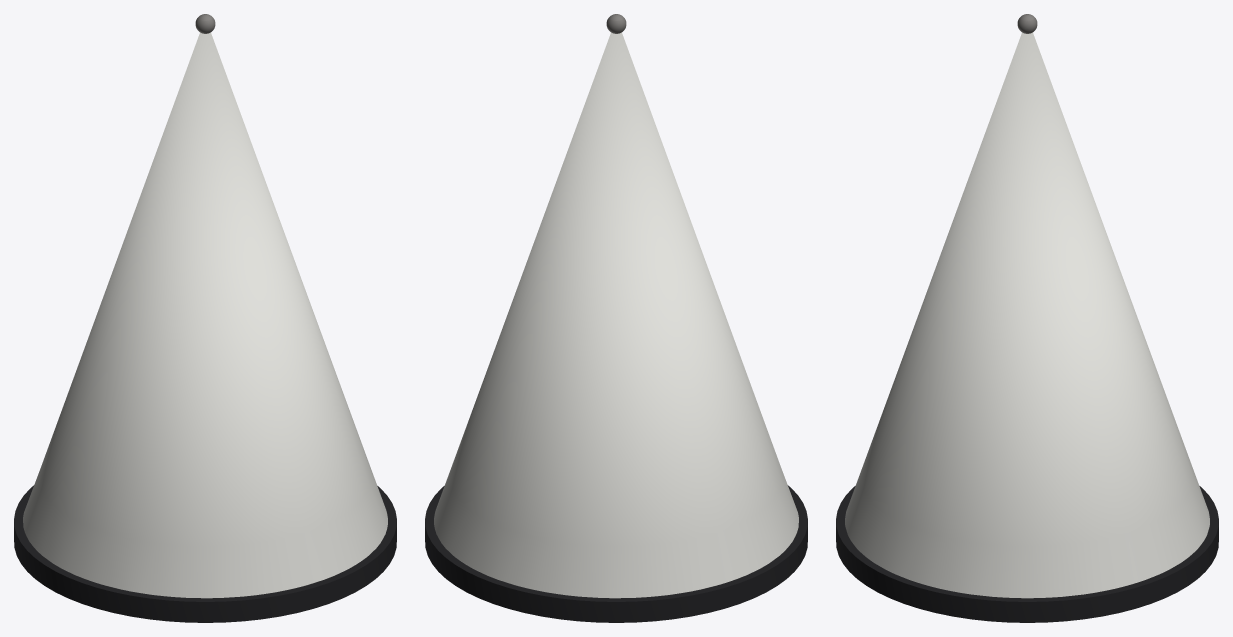
Rendered from stage13_nose_cone_conic_s.glb.
The picture shows the model from 3 angles, left to right: view 1: azimuth 30°, elevation 25°; view 2: azimuth 150°, elevation 25°; view 3: azimuth 270°, elevation 25°; orthographic projection.
Parts seen in each view (by area): view 1: cone, base_ring; view 2: cone, base_ring; view 3: cone, base_ring.
Part boxes in pixels (<box>): cone: <box>23,32,387,598</box>; base_ring: <box>14,485,396,622</box>; cone: <box>434,32,798,598</box>; base_ring: <box>425,485,807,622</box>; cone: <box>845,32,1209,598</box>; base_ring: <box>836,486,1218,622</box>.
Bounding box in the file's own units: 1.26 × 1.91 × 1.26.
3 materials, 1 textured.
